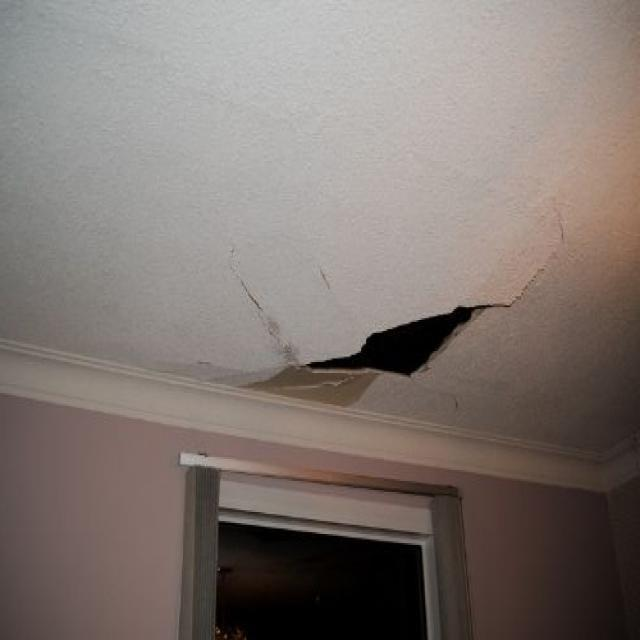leak: (205, 196, 574, 391)
